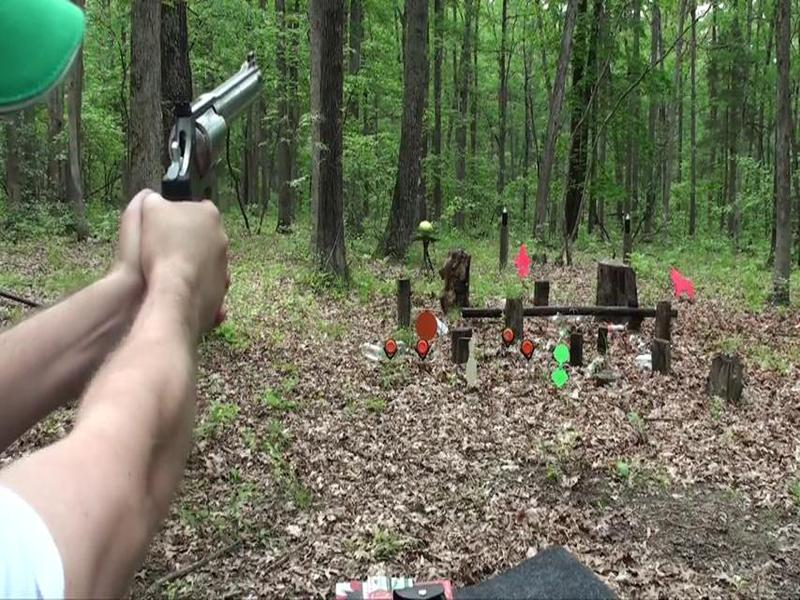Revolver: (127, 31, 281, 247)
